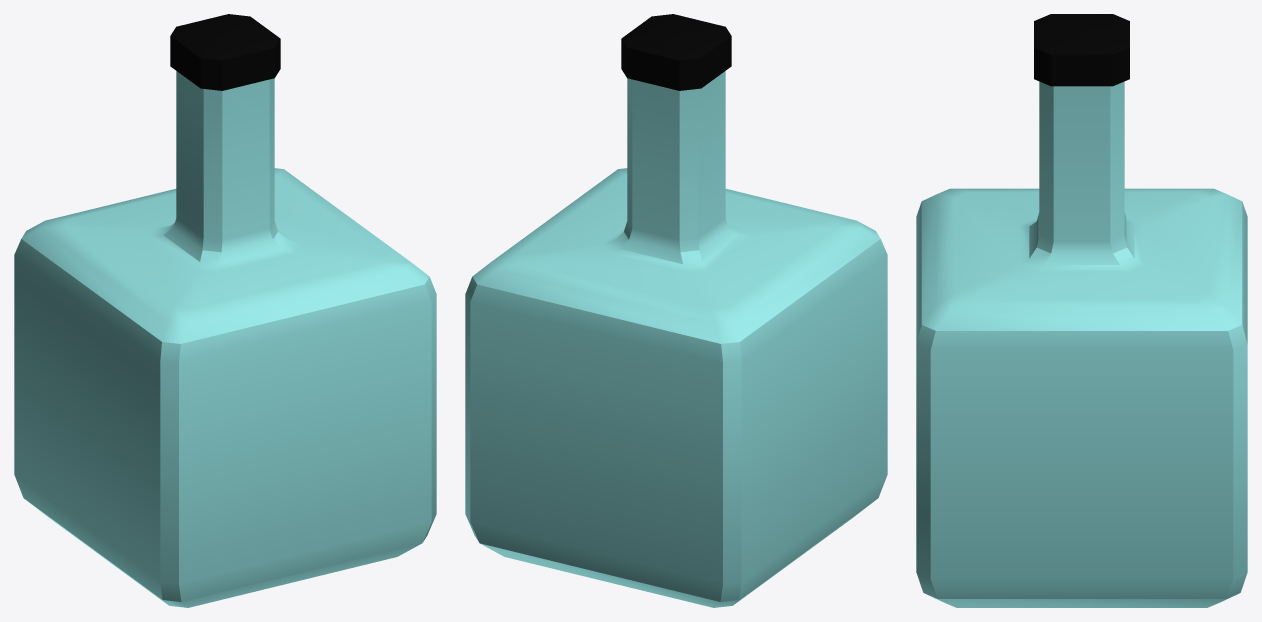
File: ScifiBooze1.fbx
The picture shows the model from 3 angles, left to right: view 1: azimuth 30°, elevation 25°; view 2: azimuth 150°, elevation 25°; view 3: azimuth 270°, elevation 25°; orthographic projection. The views are drawn at different scales.
Visible parts, largest first — view 1: Cube, Cube.002; view 2: Cube, Cube.002; view 3: Cube, Cube.002.
Boxes of the visible parts, bbox=[...] form: Cube: bbox=[14, 71, 436, 607]; Cube.002: bbox=[170, 14, 280, 90]; Cube: bbox=[465, 71, 887, 607]; Cube.002: bbox=[621, 14, 731, 90]; Cube: bbox=[916, 81, 1247, 607]; Cube.002: bbox=[1034, 14, 1129, 86].
Size of the model in its own units: 194 by 338 by 194.
